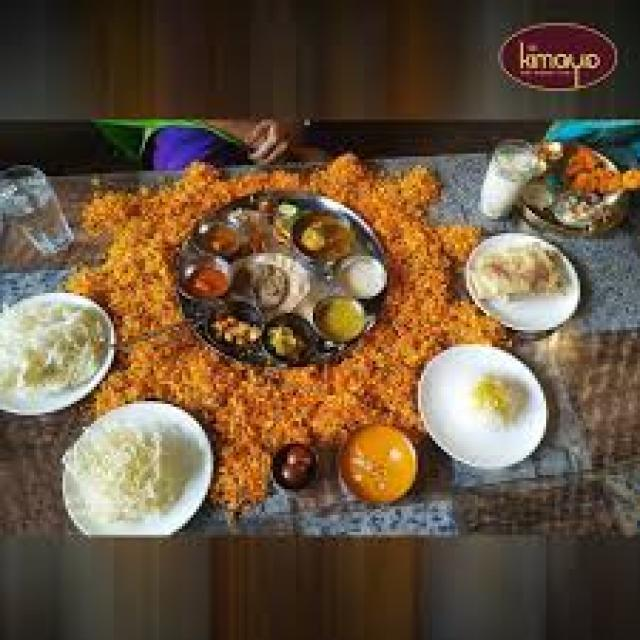curd: (405, 338, 560, 473), (1, 291, 114, 418)
dal: (336, 429, 416, 501)
raita: (413, 346, 557, 470)
roti: (238, 256, 304, 316)
sambar-rasam: (506, 22, 616, 89)
sweet: (465, 229, 586, 334), (270, 441, 323, 490), (180, 259, 235, 303)
